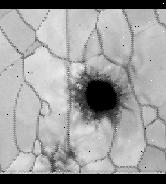good_void: (62, 64, 136, 134), (41, 142, 82, 172)
